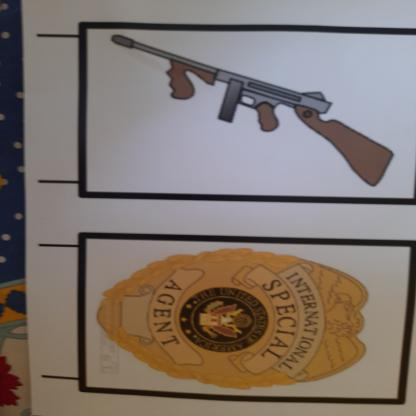Bootlegger: (100, 30, 415, 194)
G-man: (85, 241, 395, 396)
